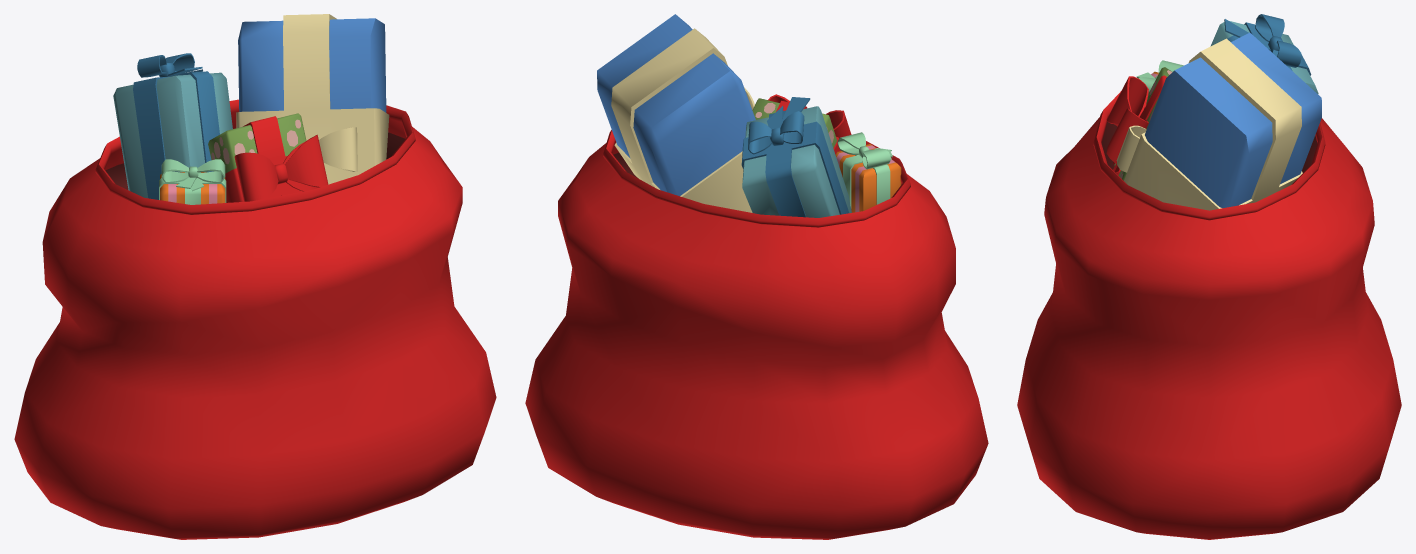
File: Objet1_09.glb
The picture shows the model from 3 angles, left to right: view 1: azimuth 30°, elevation 25°; view 2: azimuth 150°, elevation 25°; view 3: azimuth 270°, elevation 25°; orthographic projection. The views are drawn at different scales.
Visible parts, largest first — view 1: Gift_bag_1; view 2: Gift_bag_1; view 3: Gift_bag_1.
Boxes of the visible parts, x1,y1,x2,y2 form: Gift_bag_1: (14,14,496,539); Gift_bag_1: (525,14,988,539); Gift_bag_1: (1017,14,1401,539).
Size of the model in its own units: 180 by 175 by 139.
Materials: 1 (1 with a texture image).
